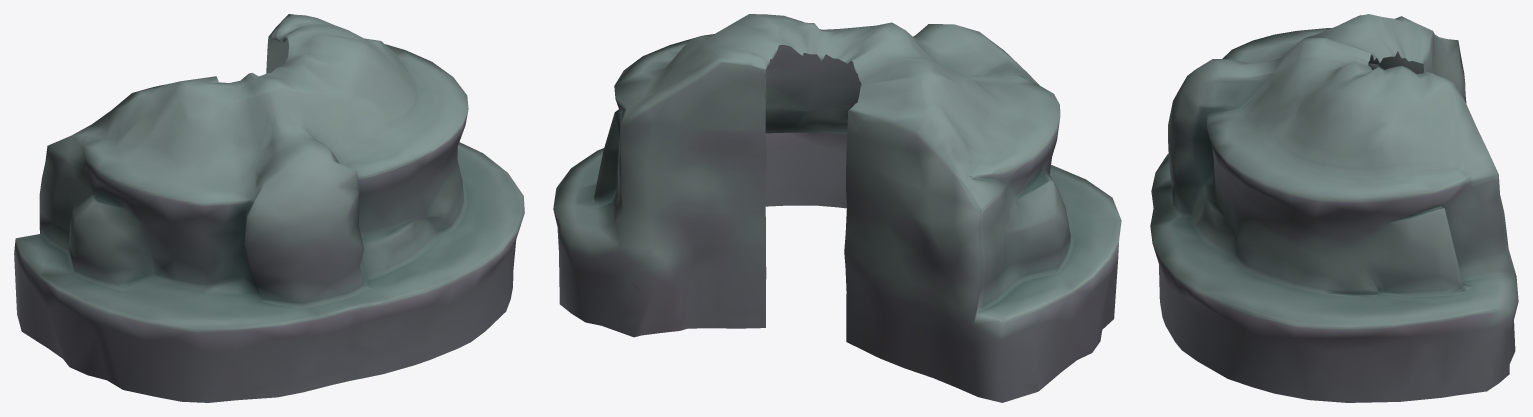
The model's file is SM_Rock_Wall_06.fbx.
3 renders of one model, left to right at view 1: azimuth 30°, elevation 25°; view 2: azimuth 150°, elevation 25°; view 3: azimuth 270°, elevation 25°, orthographic. The views are drawn at different scales.
Parts seen in each view (by area): view 1: pCube87; view 2: pCube87; view 3: pCube87.
Part boxes in pixels (box(x1,y1,x2,y2)): pCube87: box(14, 14, 524, 402); pCube87: box(553, 14, 1121, 402); pCube87: box(1150, 14, 1518, 402).
Size of the model in its own units: 1623 by 860 by 1132.
